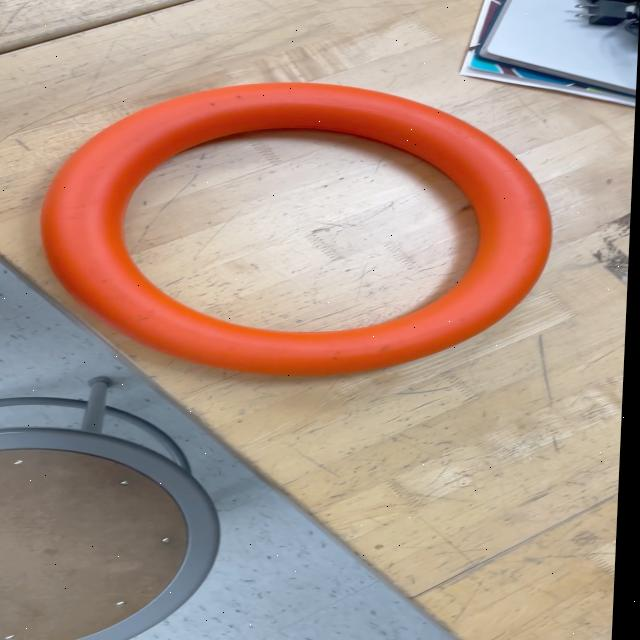note: (30, 81, 566, 378)
